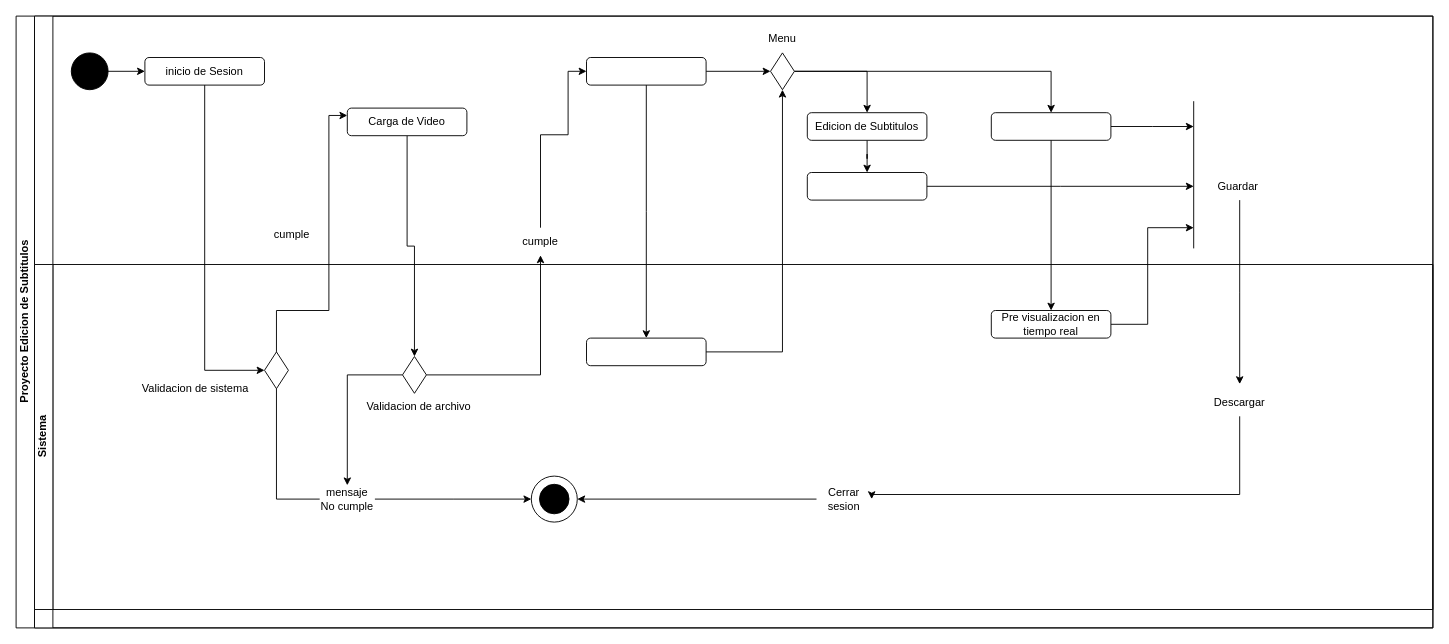
Some shapes in this 1449 by 644 pixel diagram are drawn without their labels. The centre of each missing label's shape, as x and y in pixels:
Creacion de Subtitulos: pixel 646 71
Estilo y formato de texto: pixel 866 186
Gestion de Multiples Subtitulos: pixel 646 351
Sincronizacion de Subtitulos: pixel 1050 126
